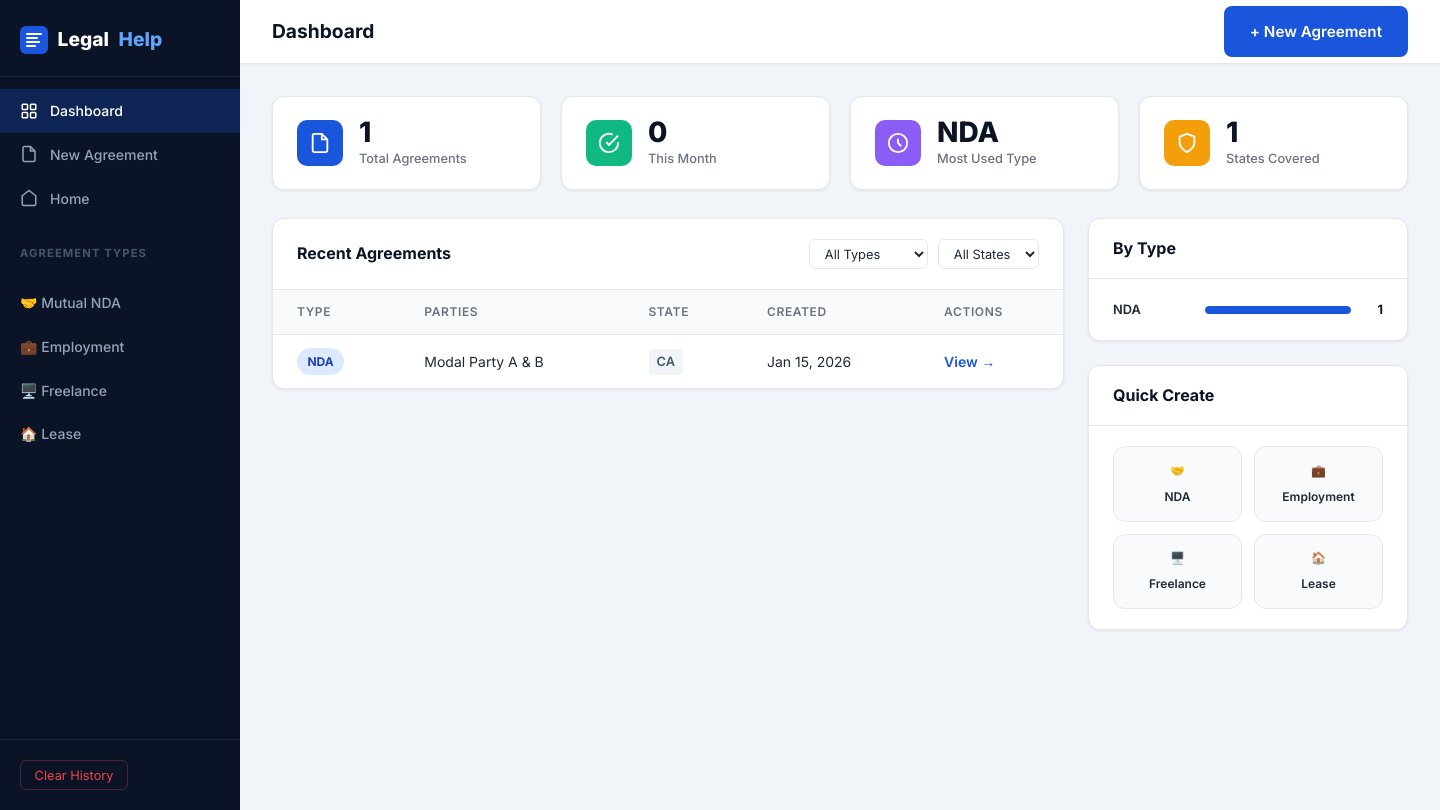
Test: DashboardClient — modal › closes the modal when clicking the overlay
Click the button "View →". click: (970, 362)
box: [944,353,995,370]
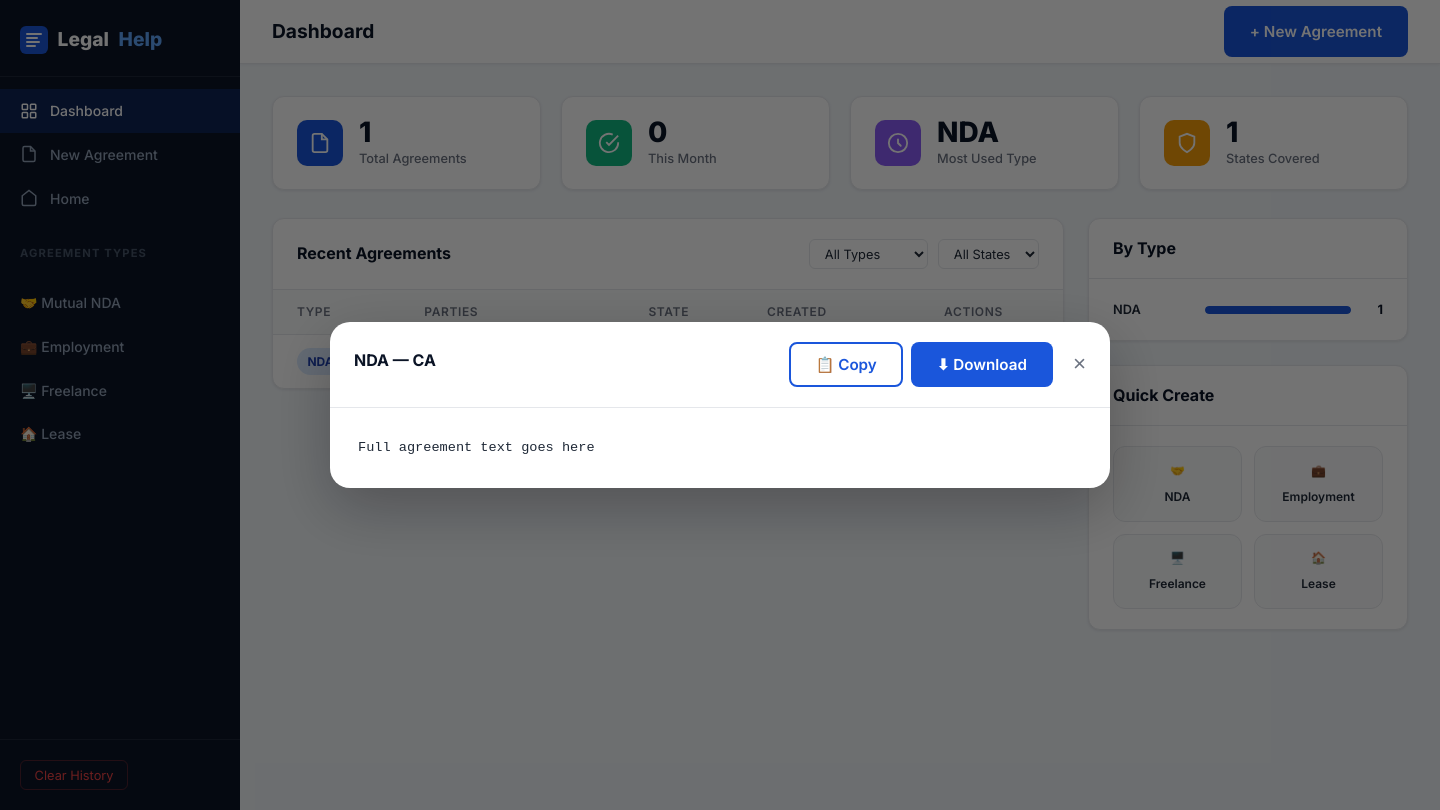
Expected: the element with class "modal-overlay" is shown
Click the element with class "modal-overlay". click: (86, 405)
box: [0,0,1439,809]
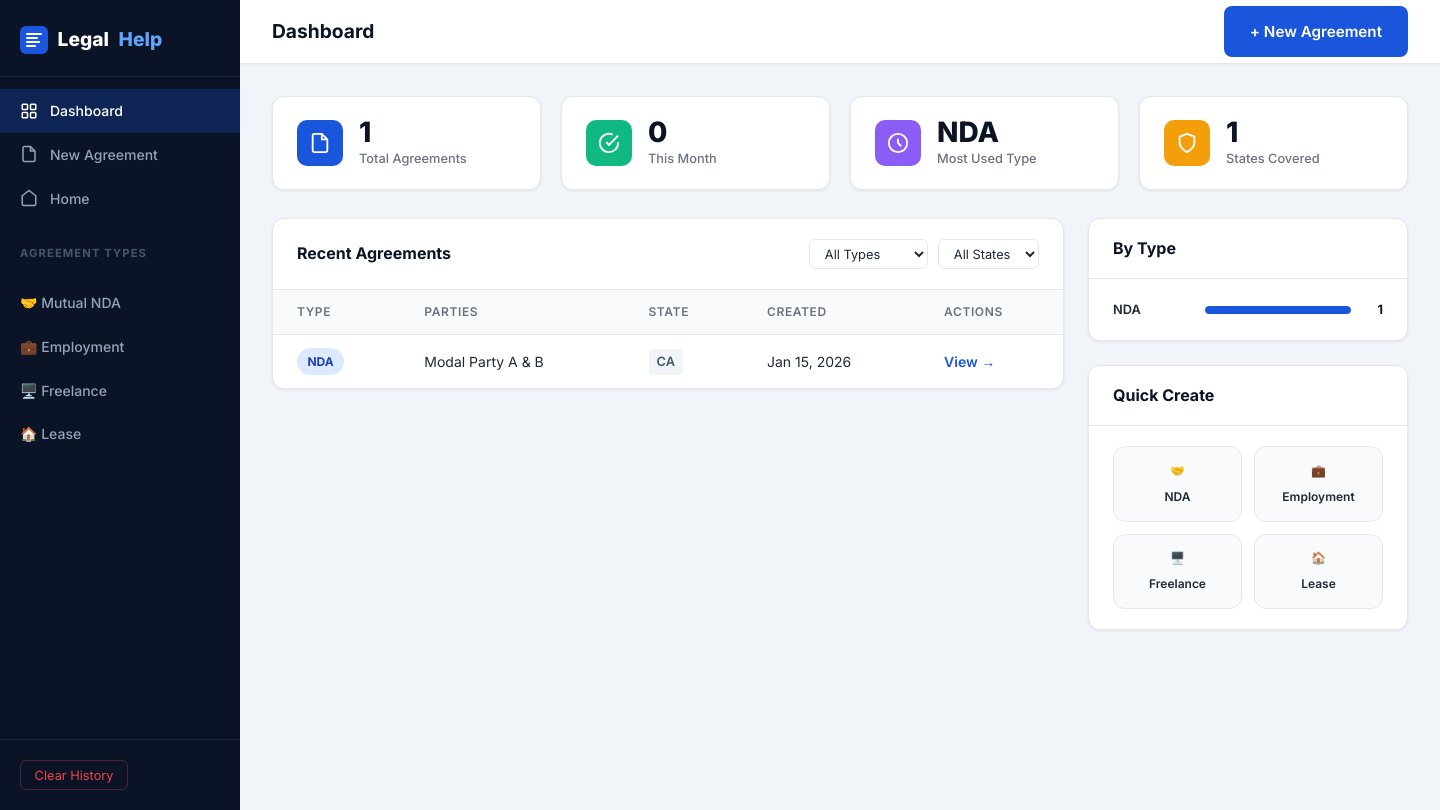
Expected: the text "Full agreement text goes here" is gone
